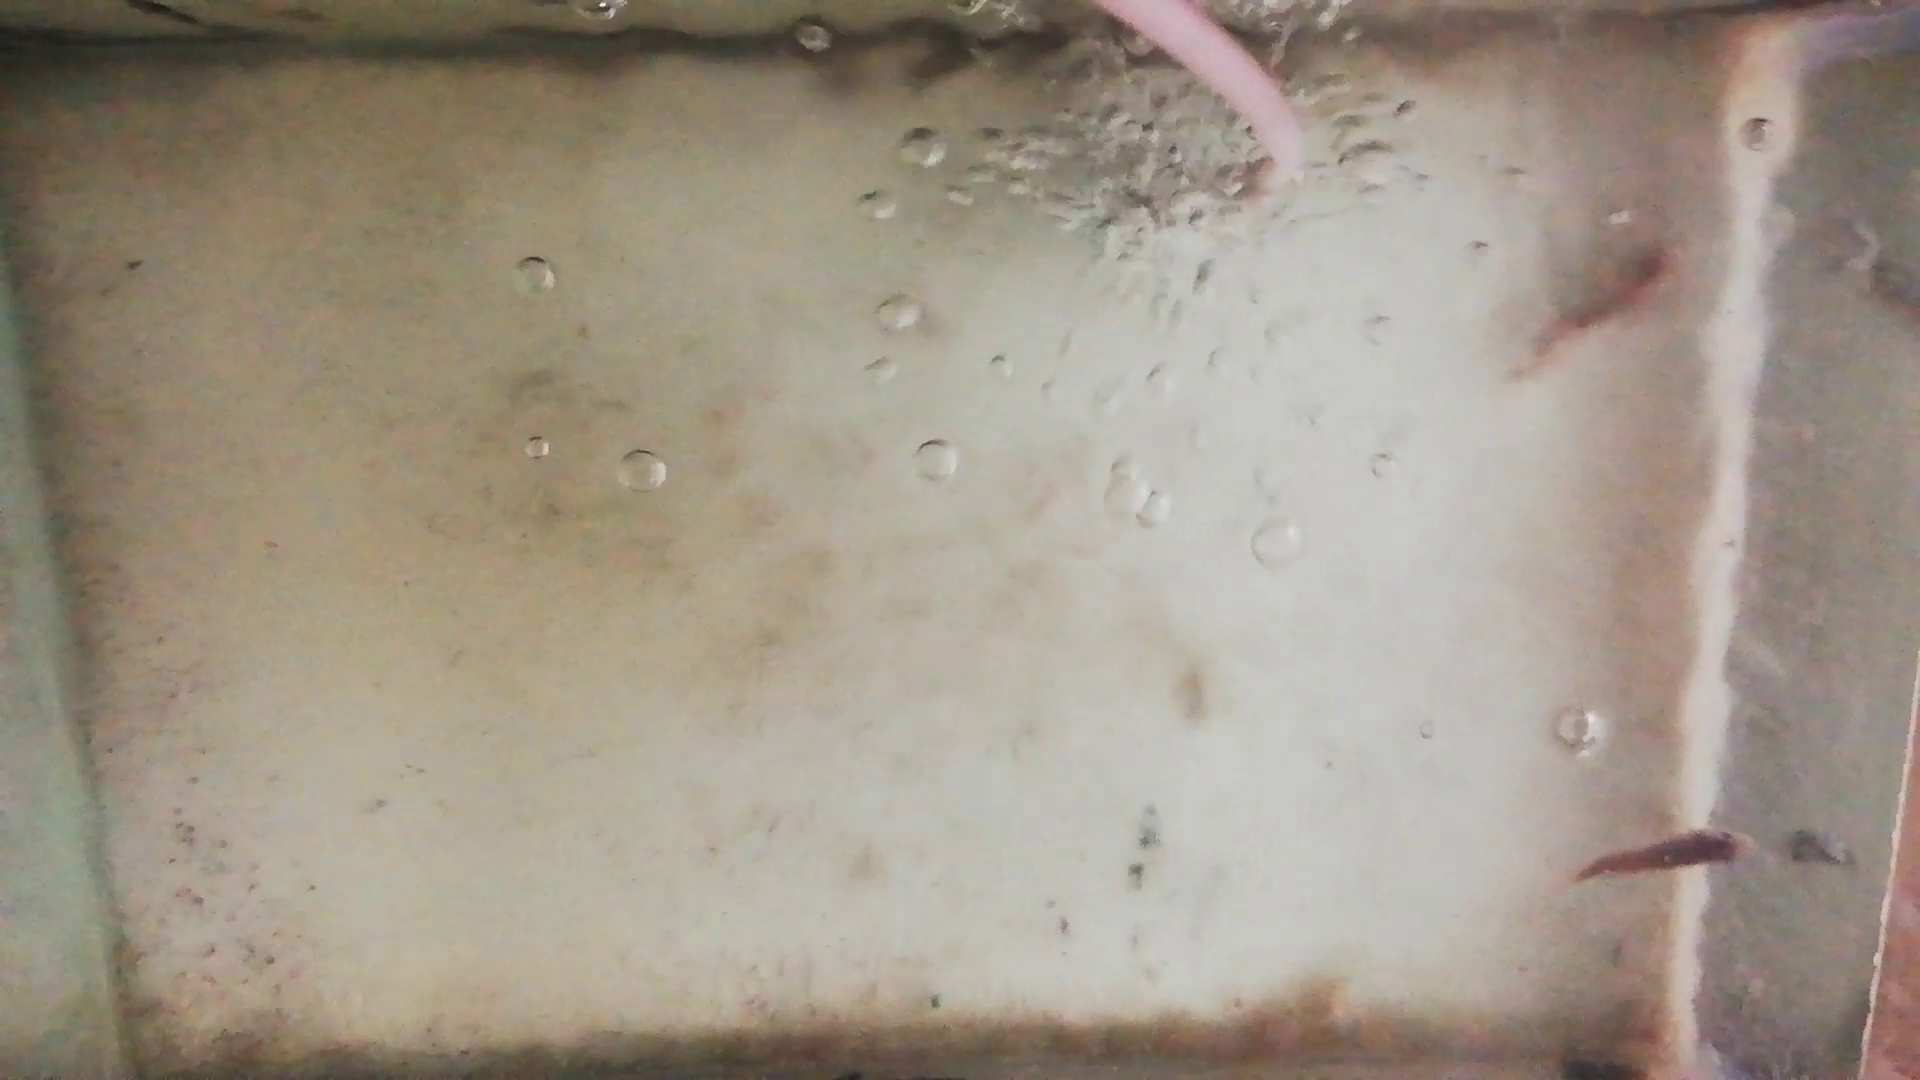fish: (1509, 232, 1687, 373), (1573, 829, 1758, 886)
